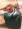with_mask: (2, 2, 22, 29)
